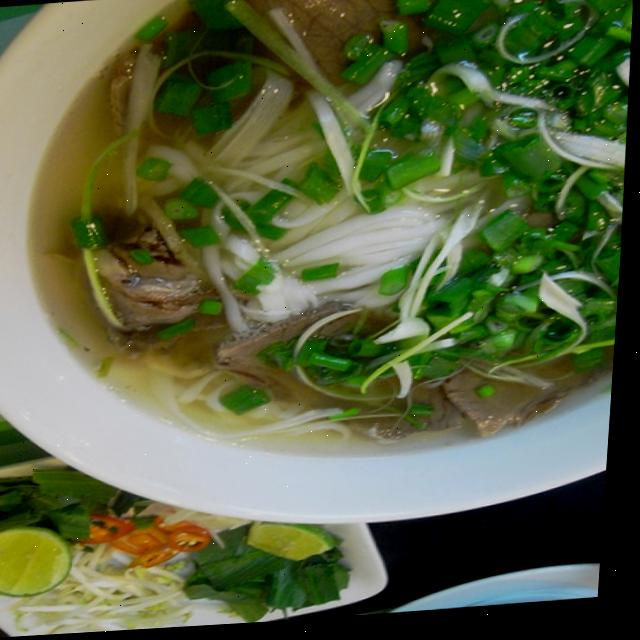面条主食: (17, 0, 640, 536)
